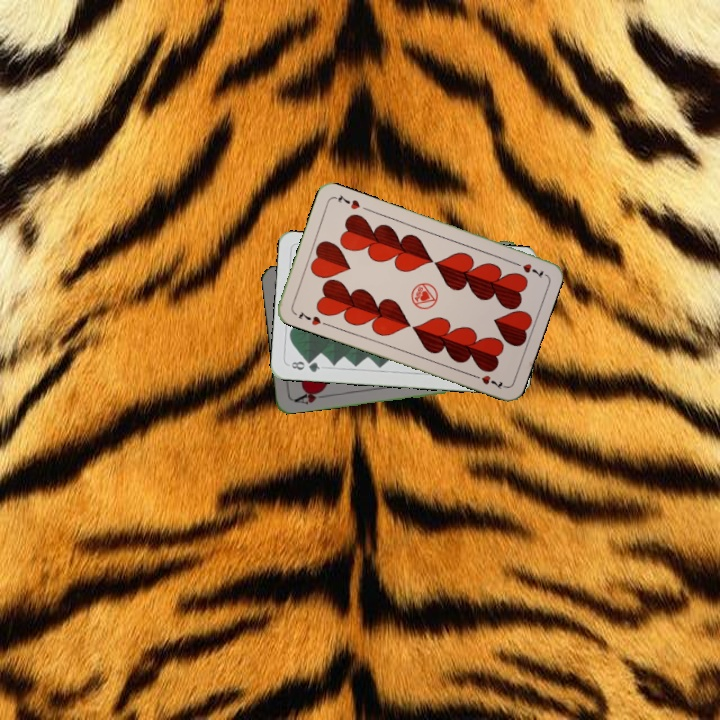G8: (287, 356, 322, 375)
H7: (508, 258, 546, 281), (295, 307, 323, 328)
HA: (290, 385, 330, 407)
